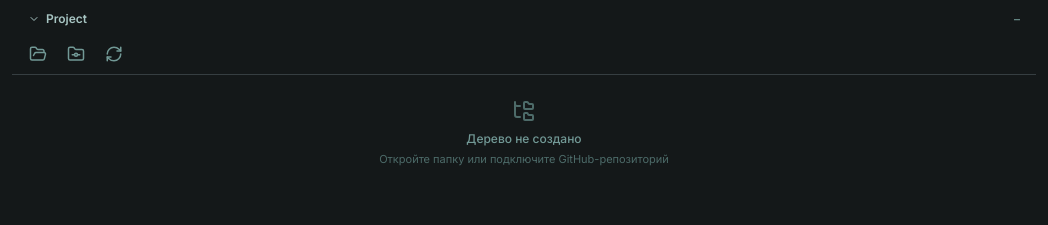
Test: ProjectTreeSection › GitHub › показывает ошибку, если восстановить репозиторий не удалось
Click the button named "Восстановить GitHub репо" at (114, 54), box x1=100 y1=40 x2=128 y2=68
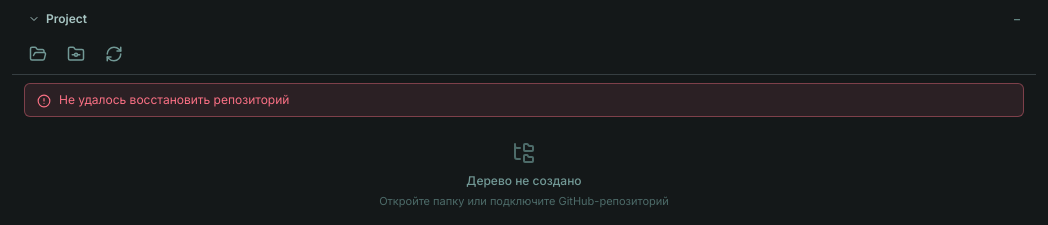
Result: the text "Не удалось восстановить репозиторий" is shown at x1=59 y1=92 x2=289 y2=108
